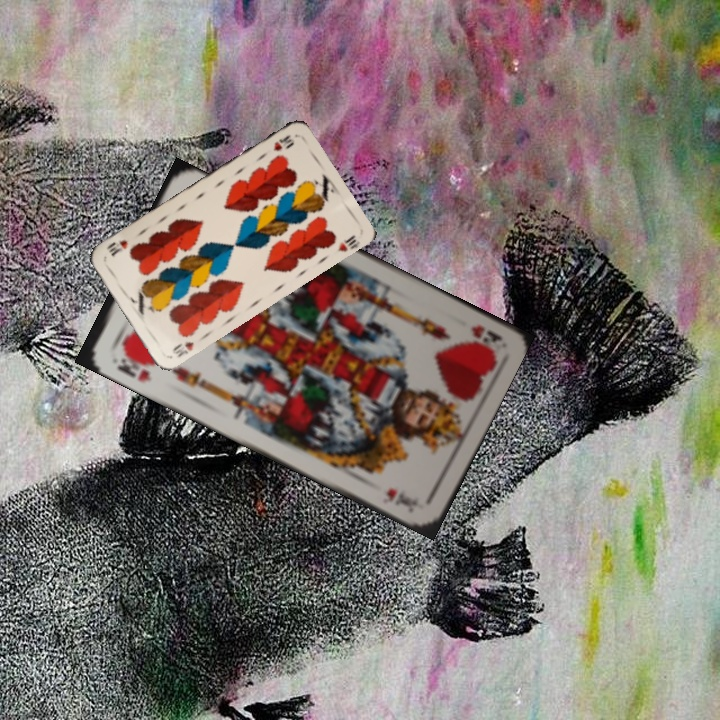H10: (269, 131, 297, 154), (168, 337, 196, 360)
HK: (113, 346, 157, 385), (467, 320, 504, 354)
